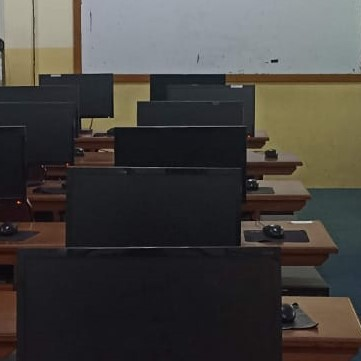monitor: (65, 166, 243, 249), (150, 77, 256, 137), (113, 126, 248, 169), (1, 100, 77, 167), (0, 85, 81, 136), (39, 73, 114, 119), (0, 125, 34, 223), (137, 100, 245, 127)
